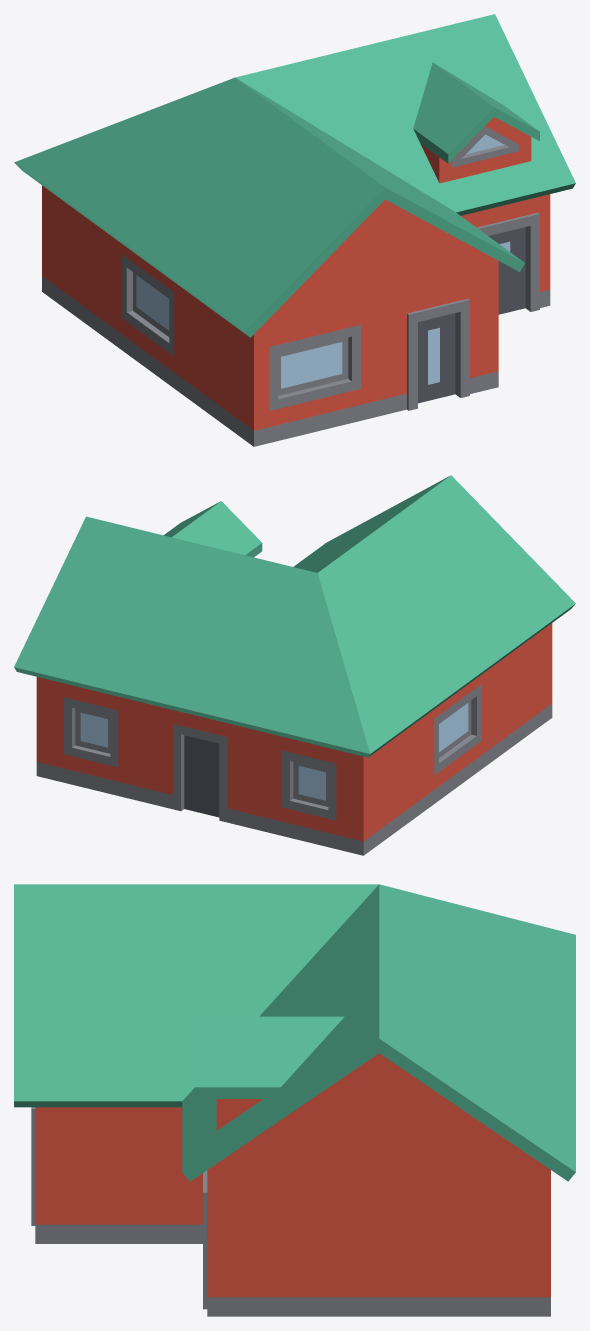
Rendered from House Type 05.glb.
3 views of the same model, one above another, from view 1: azimuth 30°, elevation 25°; view 2: azimuth 150°, elevation 25°; view 3: azimuth 270°, elevation 25° (orthographic). The views are drawn at different scales.
Visible parts, largest first — view 1: house_type05; view 2: house_type05; view 3: house_type05.
Part boxes in pixels (x1=…): house_type05: x1=14, y1=14, x2=575, y2=446; house_type05: x1=14, y1=475, x2=575, y2=855; house_type05: x1=14, y1=884, x2=575, y2=1316.
Bounding box in the file's own units: 1.31 × 0.7375 × 1.31.
